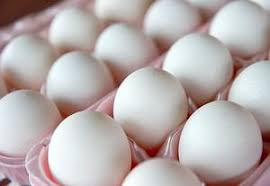eggs: (182, 96, 261, 174), (115, 71, 184, 143), (56, 113, 119, 184), (167, 35, 228, 94), (211, 2, 270, 61), (0, 90, 50, 150), (3, 27, 52, 88), (52, 53, 112, 102), (99, 24, 153, 73), (144, 2, 198, 46), (128, 157, 208, 186), (239, 58, 270, 130), (49, 6, 90, 49)
